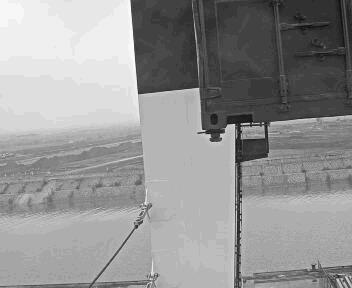twist_lock_1: (132, 127, 169, 161)
